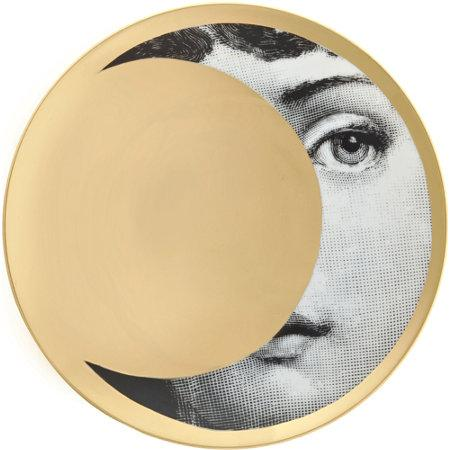person: (99, 28, 432, 428)
